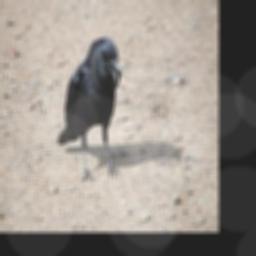Crow: (58, 37, 123, 181)
